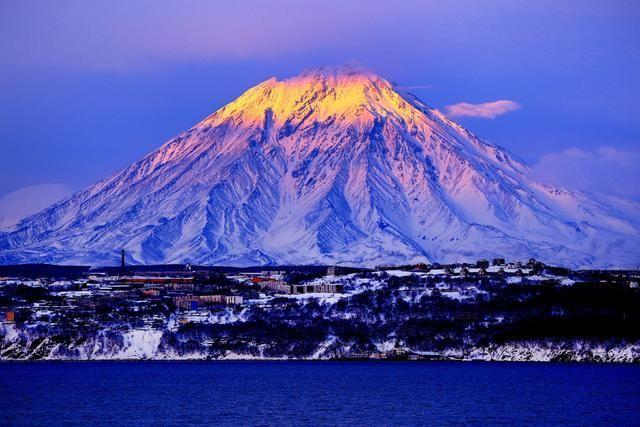mountain: (0, 87, 603, 264)
